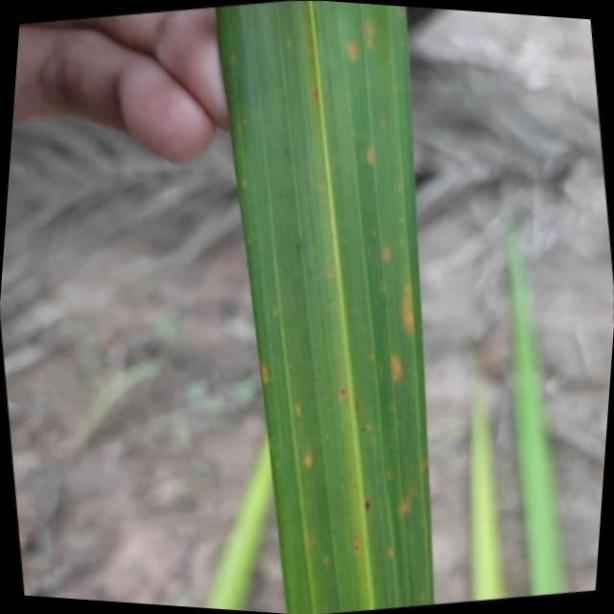Kalium: (211, 3, 437, 614)
